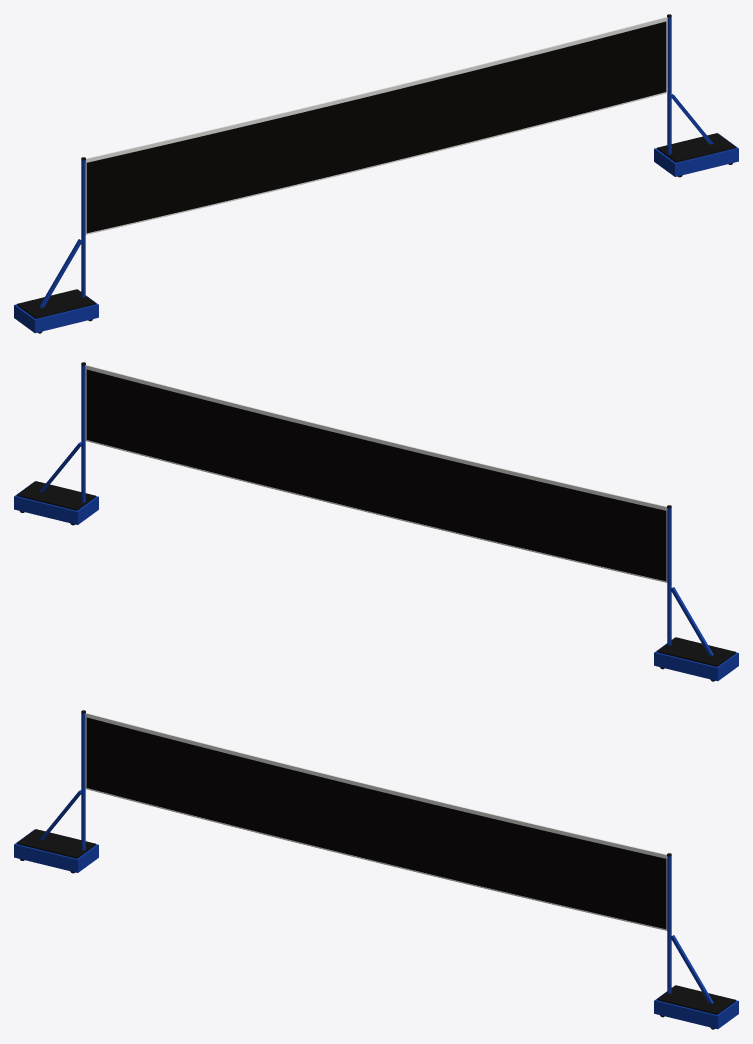
The model's file is NET_AND_POSTS.fbx.
3 views of the same model, one above another, from view 1: azimuth 30°, elevation 25°; view 2: azimuth 150°, elevation 25°; view 3: azimuth 330°, elevation 25° (orthographic).
Visible parts, largest first — view 1: Net_Mesh, Net_Tape, Net_Post_West, Net_Post_East; view 2: Net_Mesh, Net_Tape, Net_Post_West, Net_Post_East; view 3: Net_Mesh, Net_Tape, Net_Post_East, Net_Post_West.
Part boxes in pixels (x1,y1,x2,y2): Net_Mesh: (86, 21, 666, 233); Net_Tape: (85, 17, 667, 234); Net_Post_West: (14, 157, 98, 333); Net_Post_East: (654, 14, 738, 177); Net_Mesh: (86, 369, 666, 581); Net_Tape: (85, 365, 667, 582); Net_Post_West: (654, 505, 738, 681); Net_Post_East: (14, 362, 98, 525); Net_Mesh: (86, 717, 666, 929); Net_Tape: (85, 713, 667, 930); Net_Post_East: (654, 853, 738, 1029); Net_Post_West: (14, 710, 98, 873).
Size of the model in its own units: 7.38 by 1.56 by 0.38.
4 materials, 1 textured.
